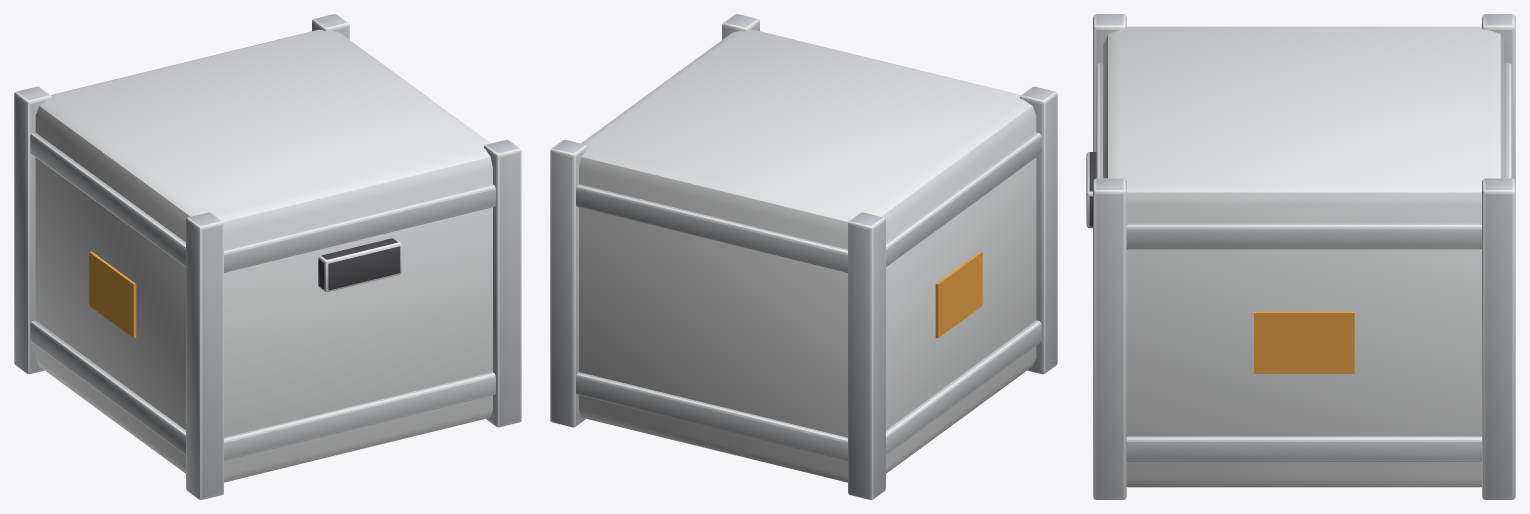
Rendered from Crate.fbx.
3 views of the same model, side by side, from view 1: azimuth 30°, elevation 25°; view 2: azimuth 150°, elevation 25°; view 3: azimuth 270°, elevation 25° (orthographic). The views are drawn at different scales.
Visible parts, largest first — view 1: Crate; view 2: Crate; view 3: Crate.
Part boxes in pixels (x1,y1,x2,y2): Crate: (14, 14, 521, 499); Crate: (550, 14, 1057, 499); Crate: (1086, 14, 1515, 499).
Size of the model in its own units: 1.26 by 1.02 by 1.28.
